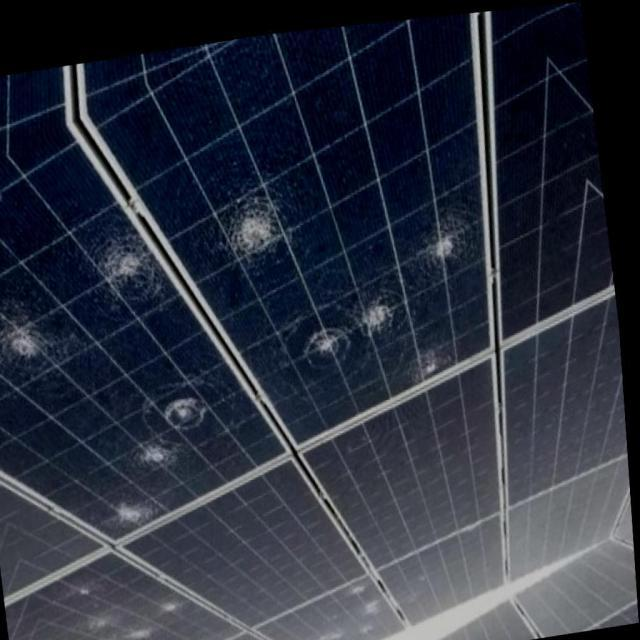cracked: (152, 38, 496, 436), (2, 177, 292, 543)
